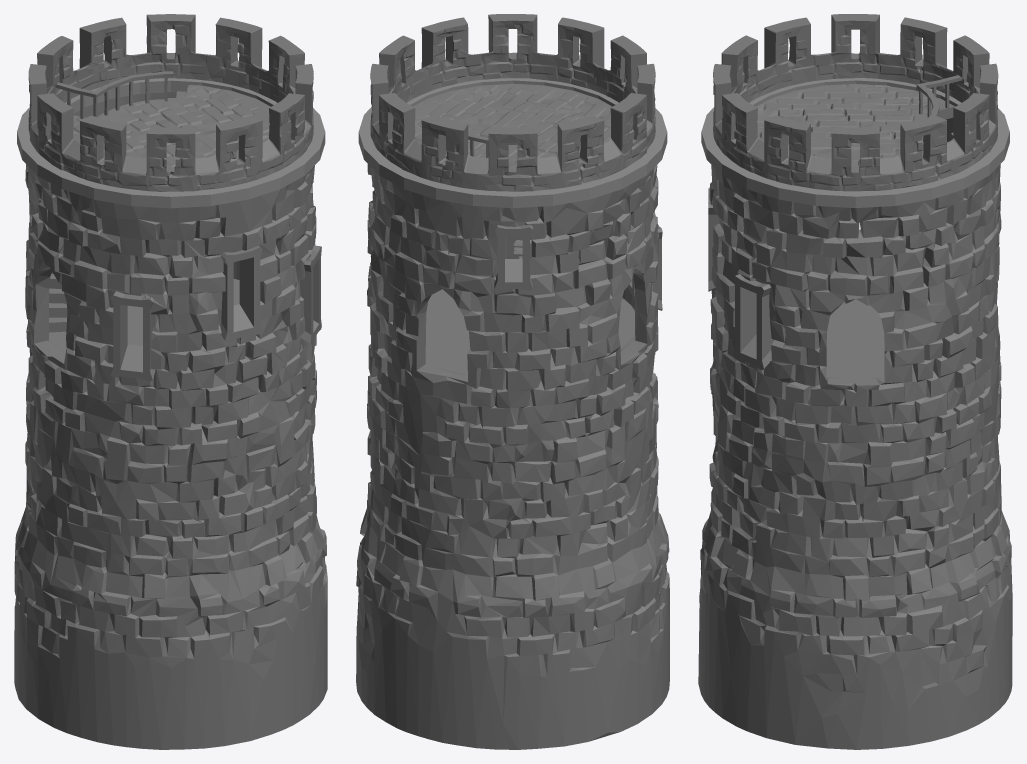
The model's file is castle_round_tower_c1.FBX.
3 views of the same model, side by side, from view 1: azimuth 30°, elevation 25°; view 2: azimuth 150°, elevation 25°; view 3: azimuth 270°, elevation 25° (orthographic).
Visible parts, largest first — view 1: castle_round_tower_c1; view 2: castle_round_tower_c1; view 3: castle_round_tower_c1.
Boxes of the visible parts, bbox=[...] form: castle_round_tower_c1: bbox=[14, 14, 327, 749]; castle_round_tower_c1: bbox=[356, 14, 669, 749]; castle_round_tower_c1: bbox=[698, 14, 1012, 749].
Bounding box in the file's own units: 7.44 × 15.93 × 7.44.
